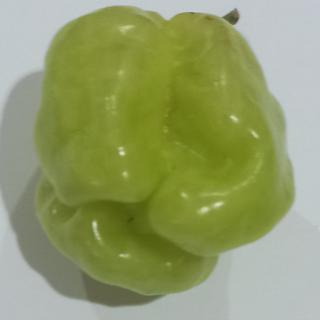Grade-B: (29, 2, 301, 297)
